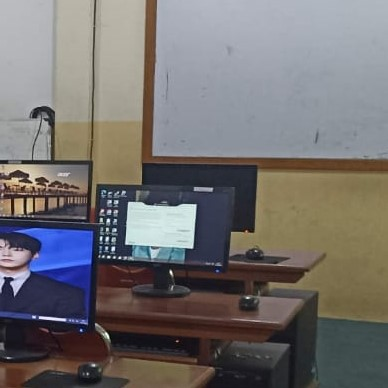monitor: (142, 1, 383, 169), (94, 184, 235, 274), (1, 218, 102, 334), (141, 163, 258, 234), (0, 160, 93, 223)
